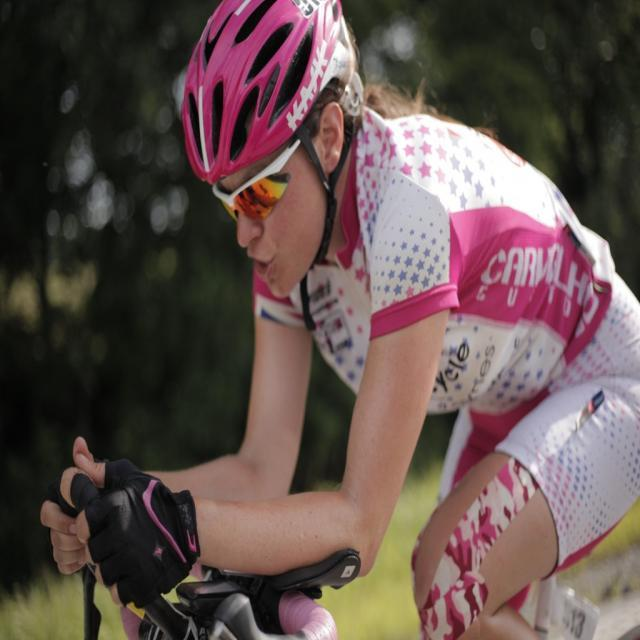car: (54, 458, 639, 638)
